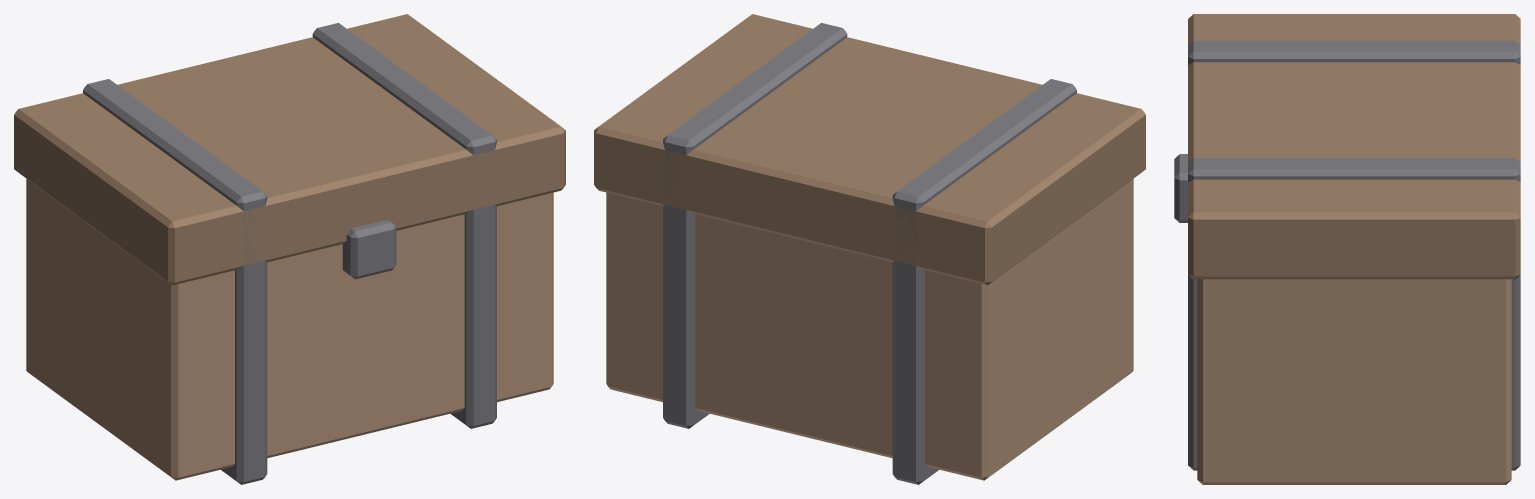
Rendered from SM_Trunk.fbx.
3 renders of one model, left to right at view 1: azimuth 30°, elevation 25°; view 2: azimuth 150°, elevation 25°; view 3: azimuth 270°, elevation 25°, orthographic. The views are drawn at different scales.
Visible parts, largest first — view 1: Trunk; view 2: Trunk; view 3: Trunk.
Boxes of the visible parts, box(x1,y1,x2,y2) form: Trunk: box(14, 14, 565, 484); Trunk: box(594, 14, 1145, 484); Trunk: box(1174, 14, 1520, 484).
Bounding box in the file's own units: 52 × 36 × 37.5.
